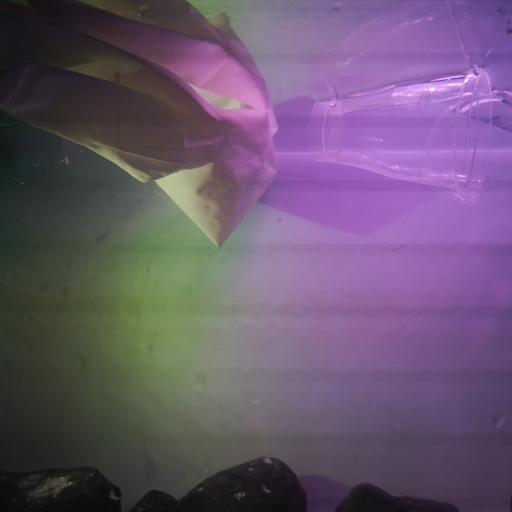glove: (2, 0, 280, 257)
plastic_cup: (306, 67, 496, 205)
